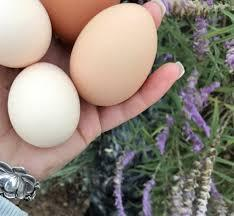egg: (68, 0, 158, 110), (3, 62, 78, 147), (1, 0, 52, 68)
